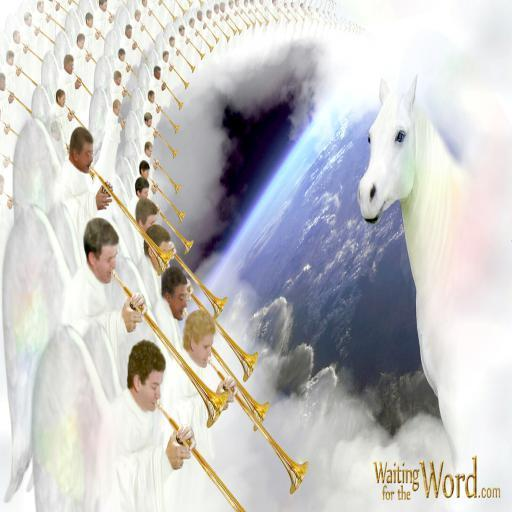horse: (356, 70, 475, 460)
